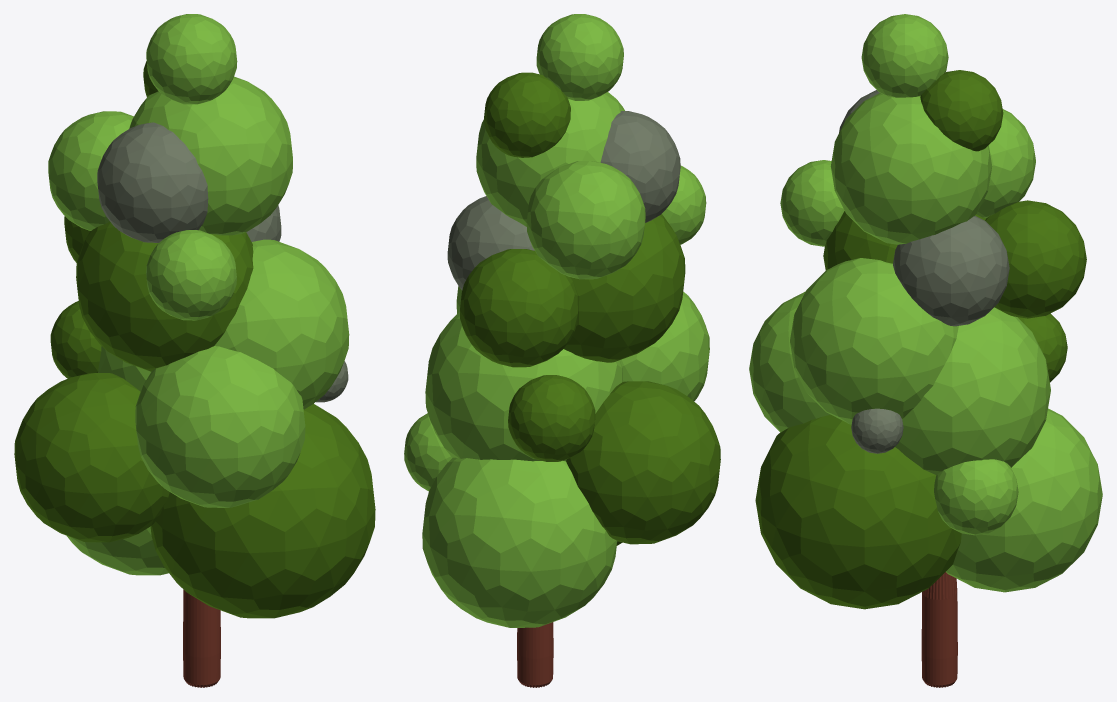
Rendered from alberopalleverdi.fbx.
The picture shows the model from 3 angles, left to right: view 1: azimuth 30°, elevation 25°; view 2: azimuth 150°, elevation 25°; view 3: azimuth 270°, elevation 25°; orthographic projection. The views are drawn at different scales.
Visible parts, largest first — view 1: Albero_verde; view 2: Albero_verde; view 3: Albero_verde.
Part boxes in pixels (bbox=[...]): Albero_verde: bbox=[14, 14, 375, 687]; Albero_verde: bbox=[404, 14, 720, 687]; Albero_verde: bbox=[749, 14, 1102, 687].
Size of the model in its own units: 704 by 1542 by 760.
